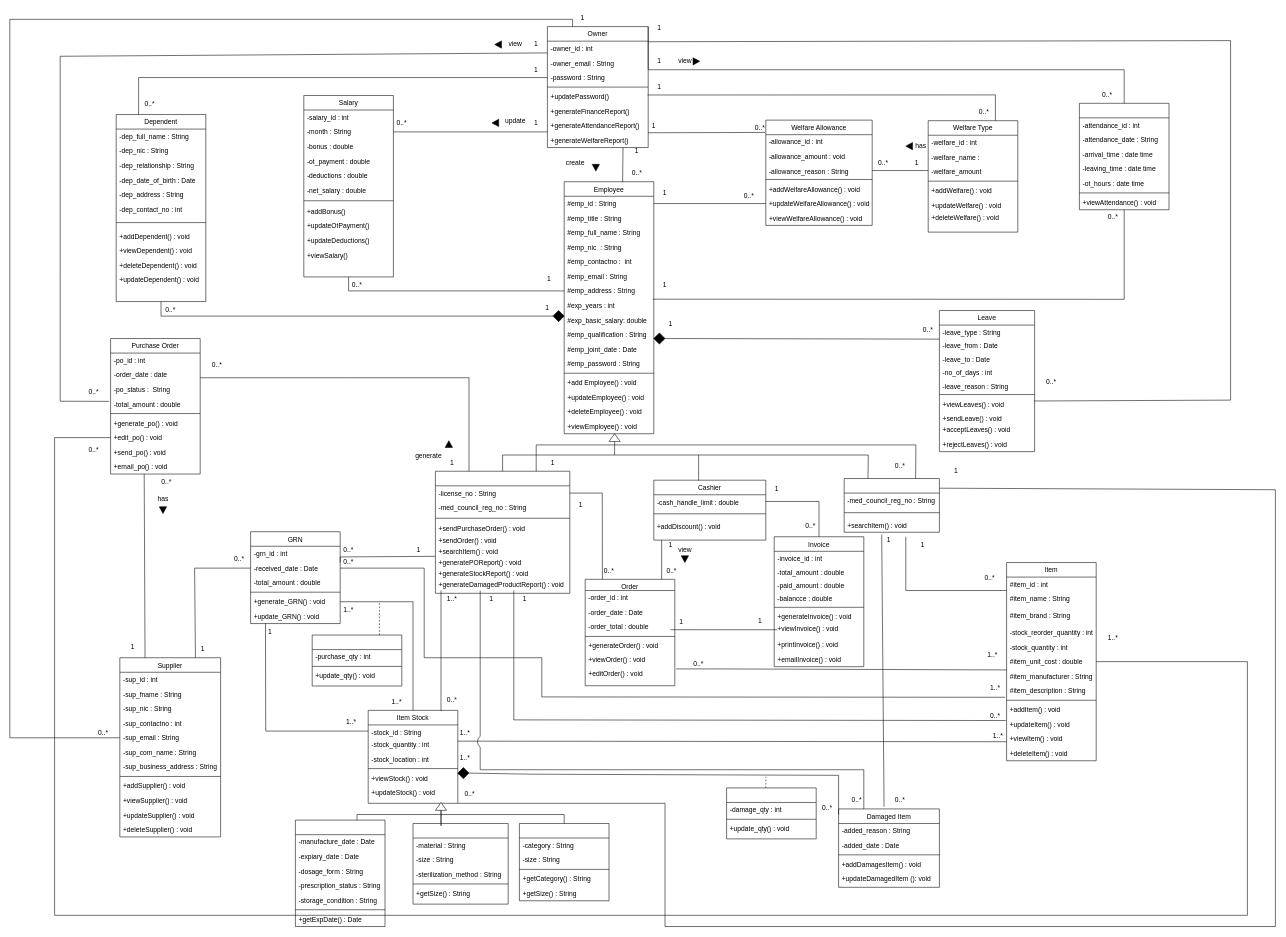
Some shapes in this 1286 by 937 pixel diagram are drawn without their labels. Here are the shapes that lost their labels. From the top down, the box of each, then its label:
(1079, 103, 1169, 210): Attendence
(844, 478, 939, 532): Assistant Pharmacist
(435, 471, 570, 593): Pharmacist
(312, 634, 402, 686): PurchaseStock
(726, 787, 816, 839): DamageStock
(295, 820, 385, 927): Medicines
(412, 823, 508, 904): Surgical Items
(519, 823, 609, 901): Grocery Items
